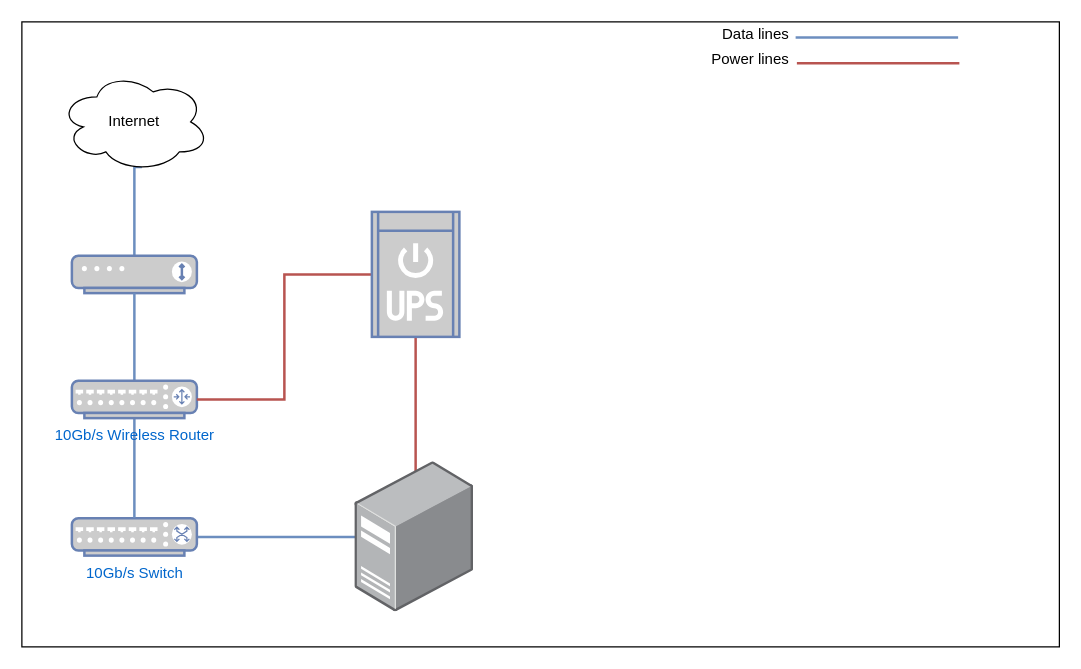
This 1081x669 diagram has some shape labels left out. The box of each missing label's shape, as (x1, y1, x2, y2) in pixels:
ISP Modem: (70, 254, 198, 294)
Tesla: (354, 461, 473, 611)
